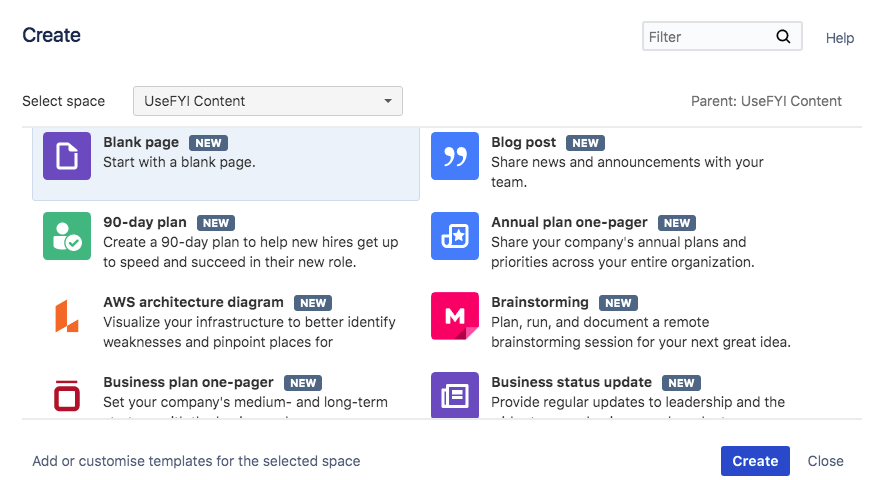button_create: (721, 445, 793, 477)
search_box: (641, 20, 806, 54)
